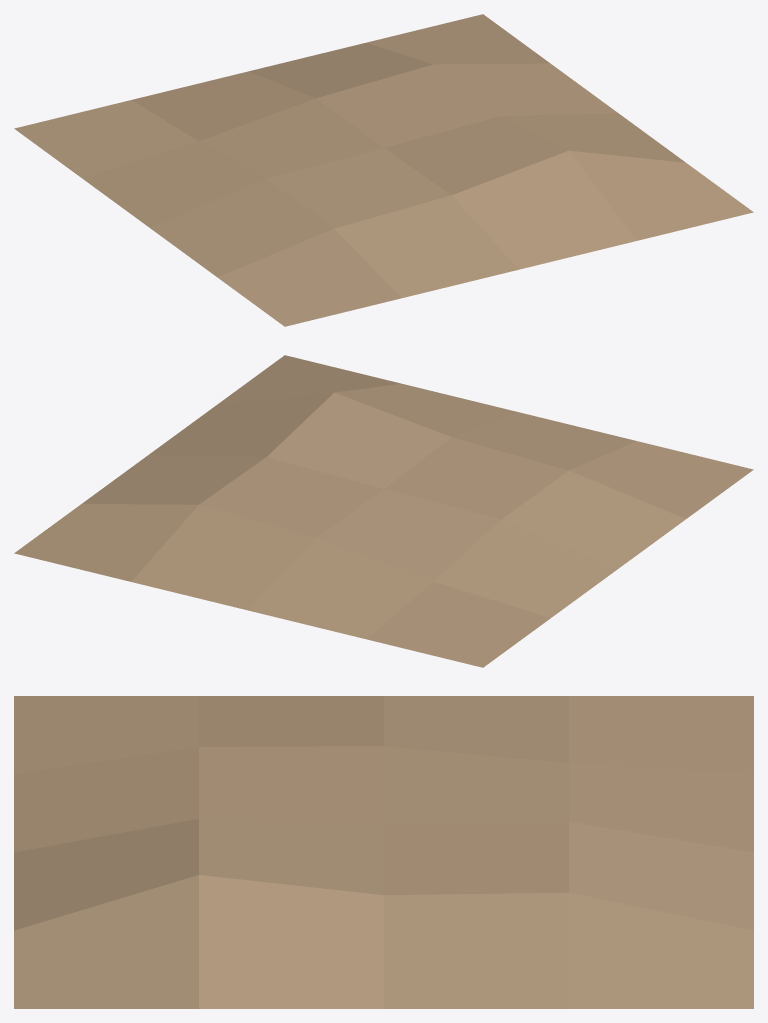
Rendered from Tile_07_Dirt_Rough.glb.
The picture shows the model from 3 angles, top to bottom: view 1: azimuth 30°, elevation 25°; view 2: azimuth 150°, elevation 25°; view 3: azimuth 270°, elevation 25°; orthographic projection. The views are drawn at different scales.
Parts seen in each view (by area): view 1: Tile_Dirt_Rough; view 2: Tile_Dirt_Rough; view 3: Tile_Dirt_Rough.
Part boxes in pixels (bbox=[...]): Tile_Dirt_Rough: bbox=[14, 14, 753, 326]; Tile_Dirt_Rough: bbox=[14, 355, 753, 667]; Tile_Dirt_Rough: bbox=[14, 696, 753, 1008].
Bounding box in the file's own units: 0.2 × 0.0166 × 0.2.
